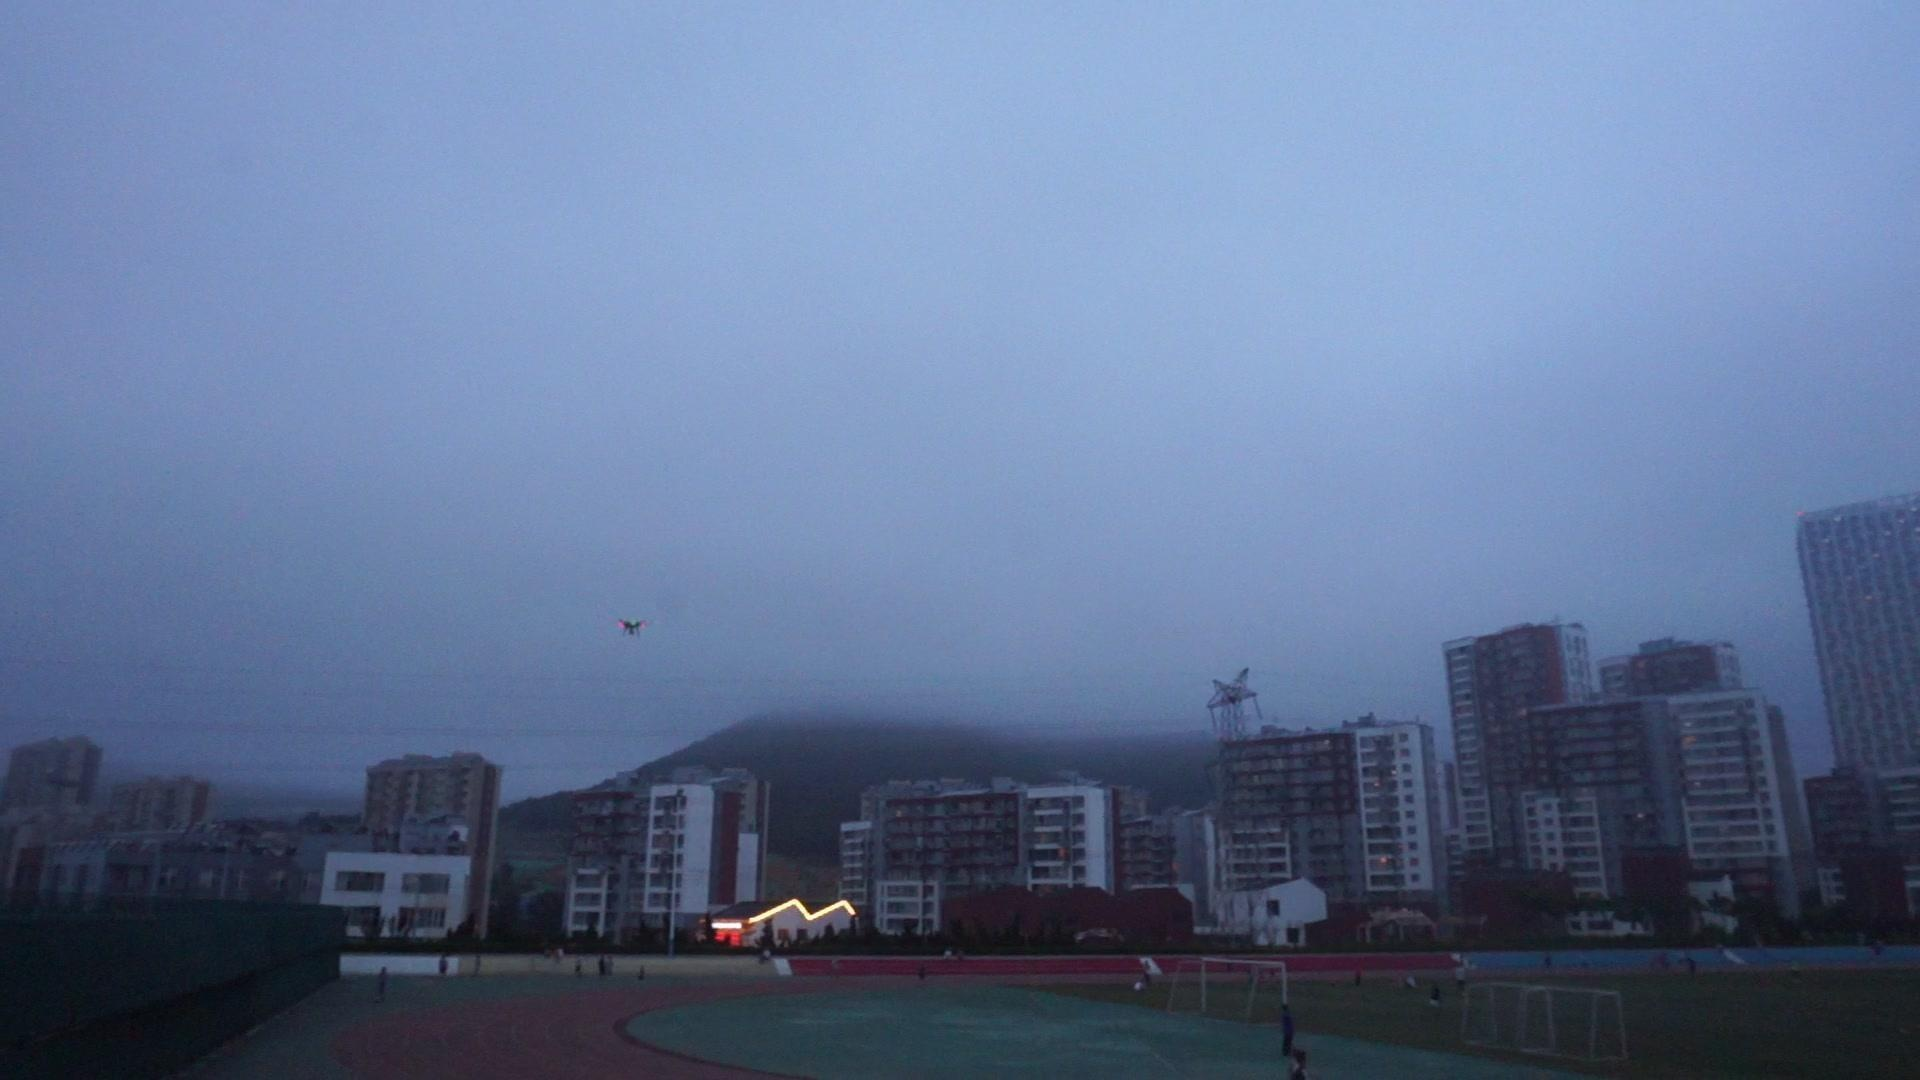UAV: (618, 620, 649, 637)
